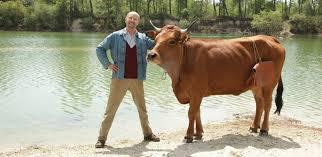cow: (146, 20, 286, 142)
